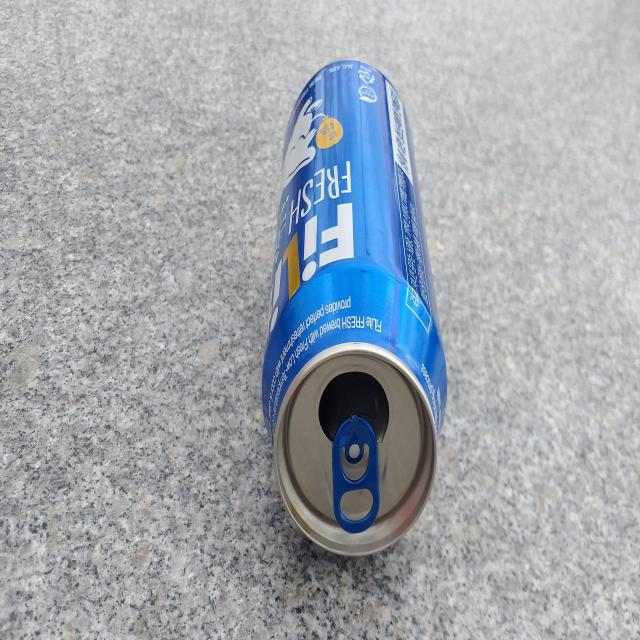can: (262, 60, 447, 556)
